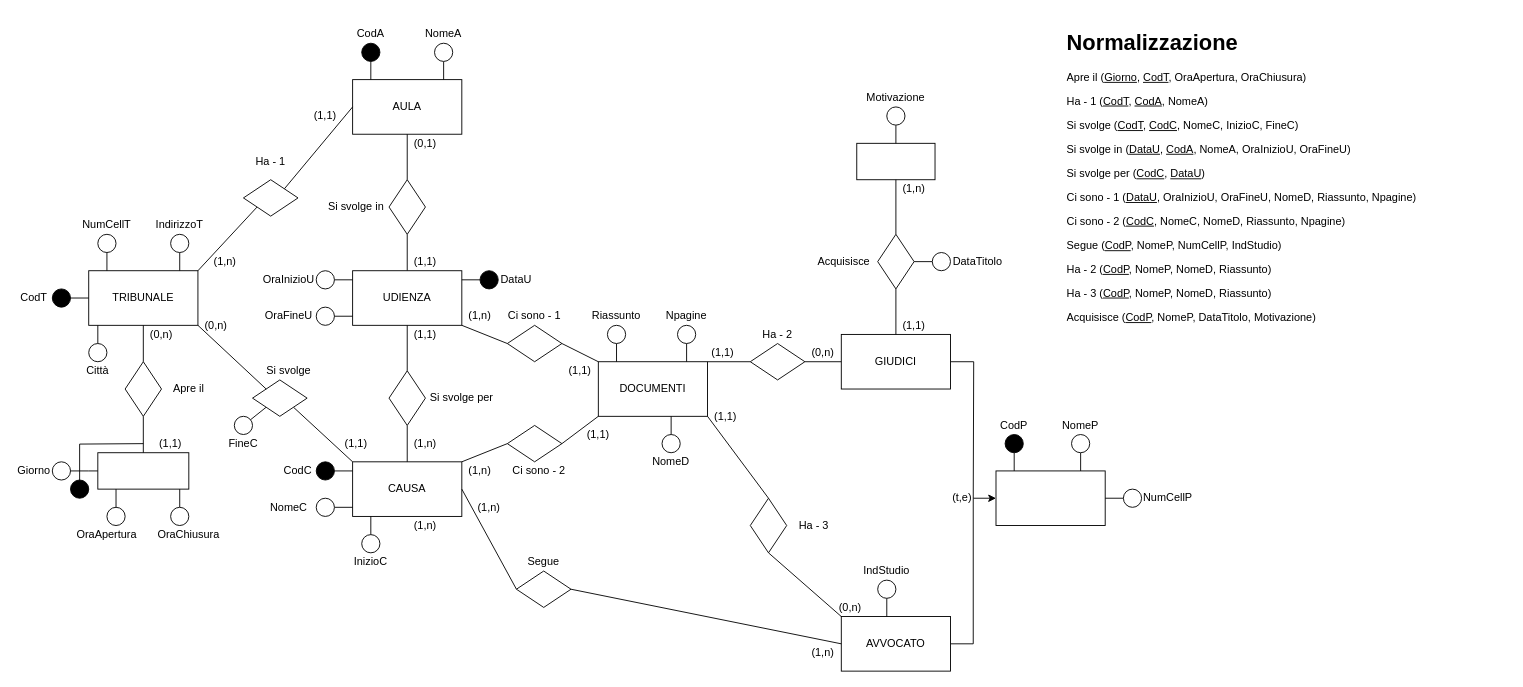
This 1523x687 diagram has some shape labels left out. Here are the shapes that lost their labels. From the top down, the box of each, then its label:
(856, 142, 935, 180): TITOLO
(97, 452, 189, 489): DATA
(995, 470, 1105, 526): PERSONE
